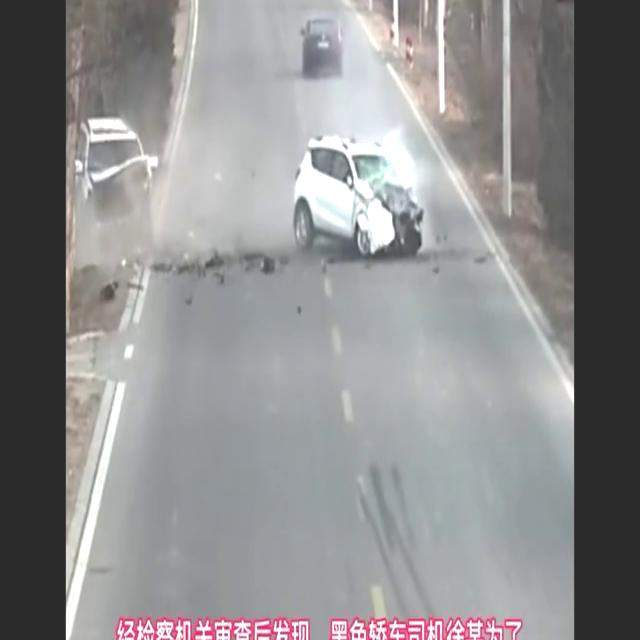accident: (75, 116, 495, 300)
